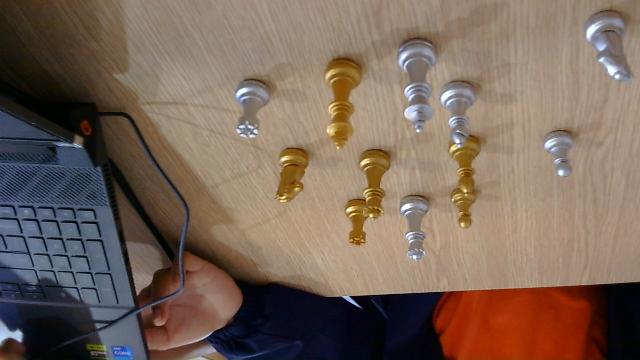black_bishop: (450, 134, 483, 195)
black_king: (324, 59, 363, 150)
black_knight: (274, 147, 310, 204)
black_pawn: (452, 188, 476, 229)
black_queen: (360, 150, 391, 220)
black_rook: (345, 199, 368, 246)
white_bishop: (441, 81, 476, 147)
white_king: (397, 39, 436, 133)
white_knight: (584, 10, 637, 85)
white_pawn: (544, 130, 576, 177)
white_queen: (401, 195, 431, 263)
white_rook: (234, 79, 273, 140)
